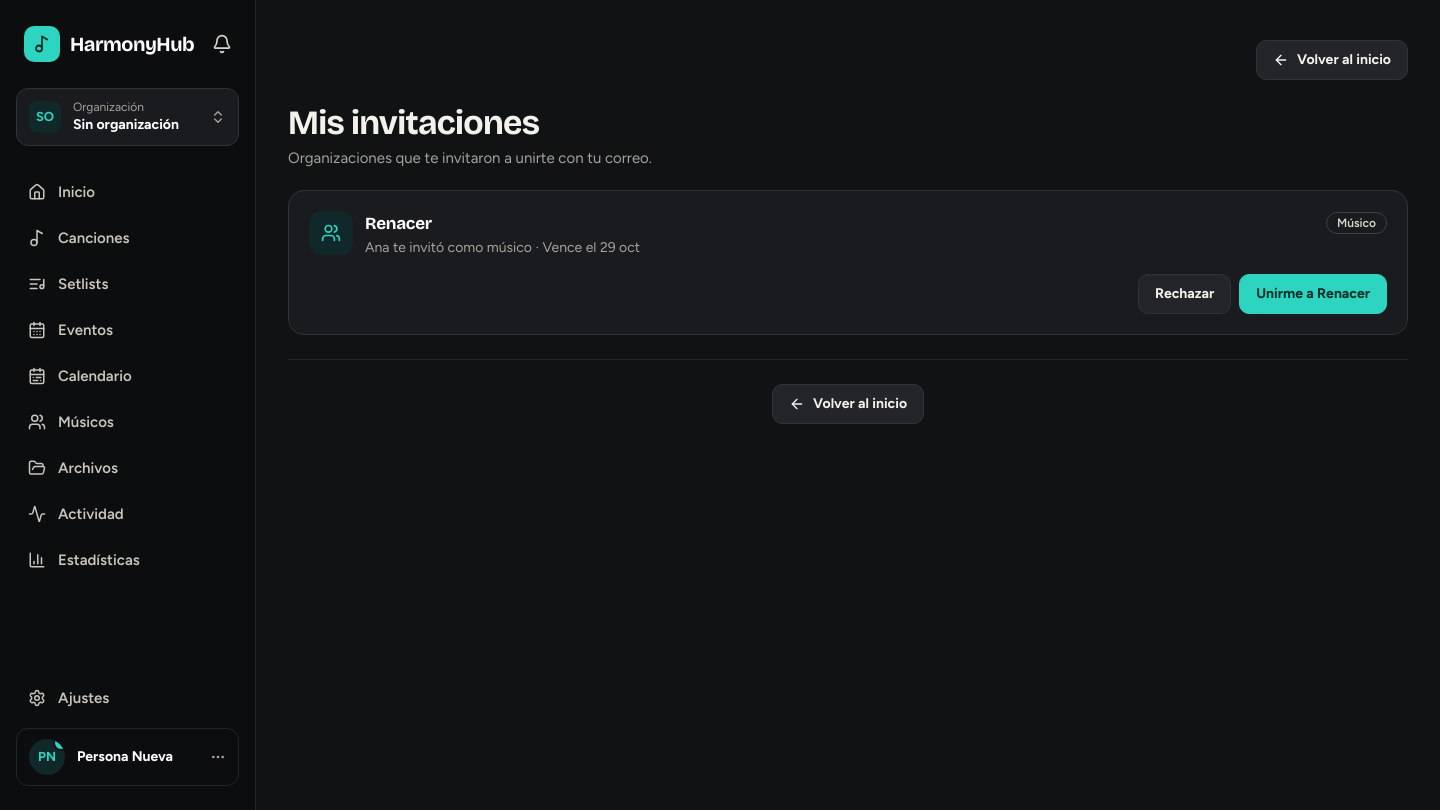
Test: cuenta sin organizacion: entra a la aplicacion › al aceptar una invitacion la app pasa a esa organizacion sin recargar
The width and height of the screenshot is (1440, 810).
Check: the number of buttons "Volver al inicio" is 2, box [1256,40,1408,80]; [772,384,924,424]
Click the button "Unirme a Renacer".
click(1313, 294)  # box [1239,274,1387,314]
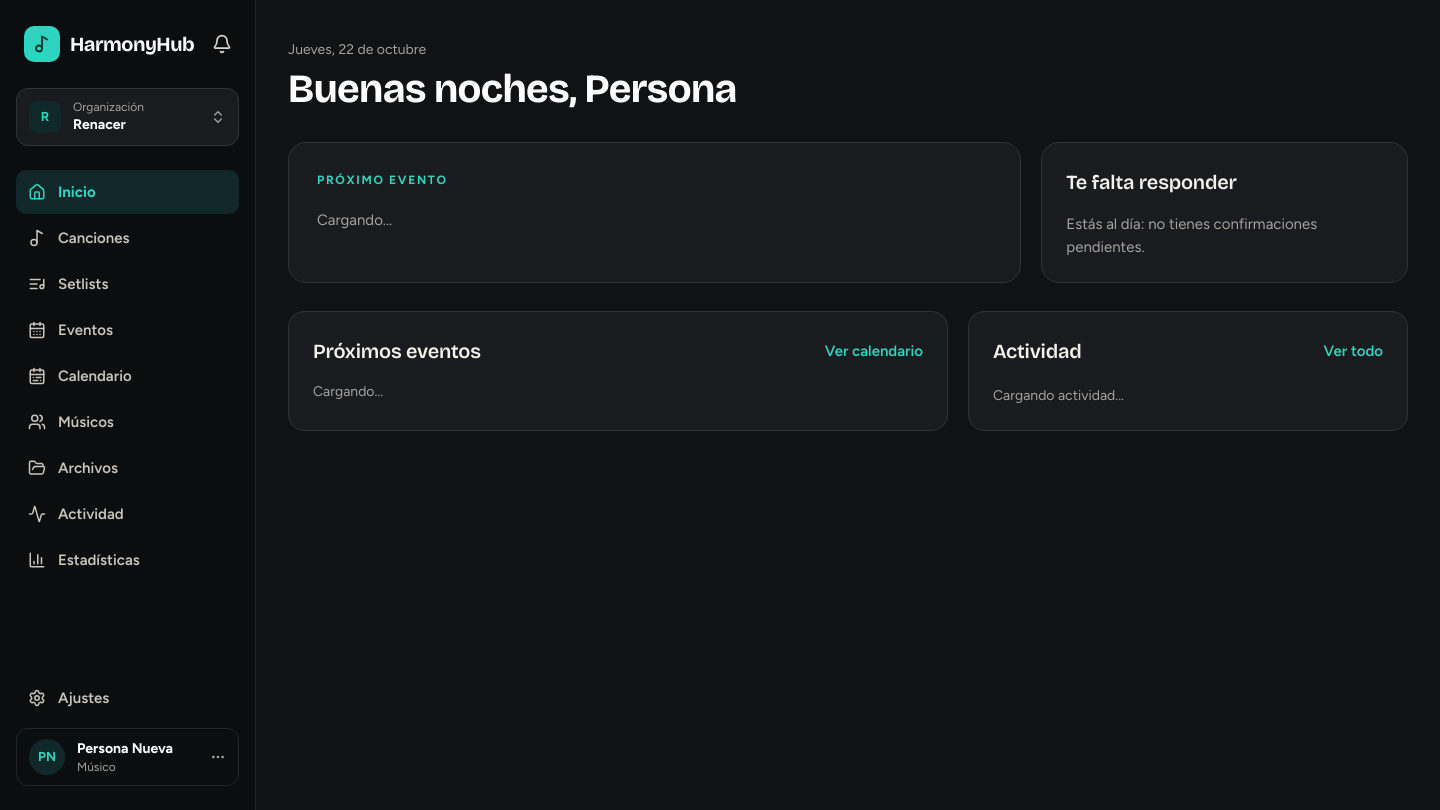
Check: the text "Renacer" is shown, box [73,116,126,133]
